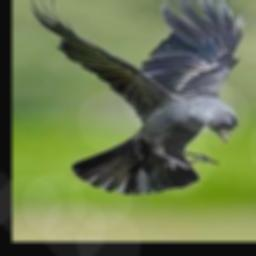Crow: (26, 0, 243, 193)
